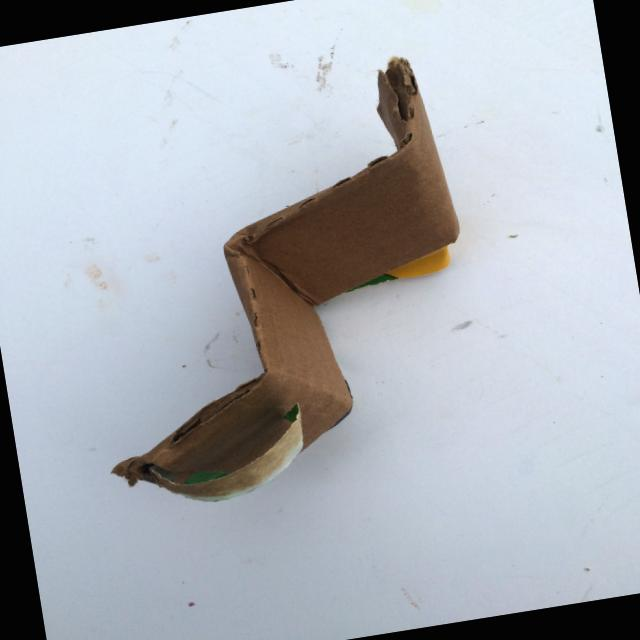Cardboard: (0, 18, 614, 576)
